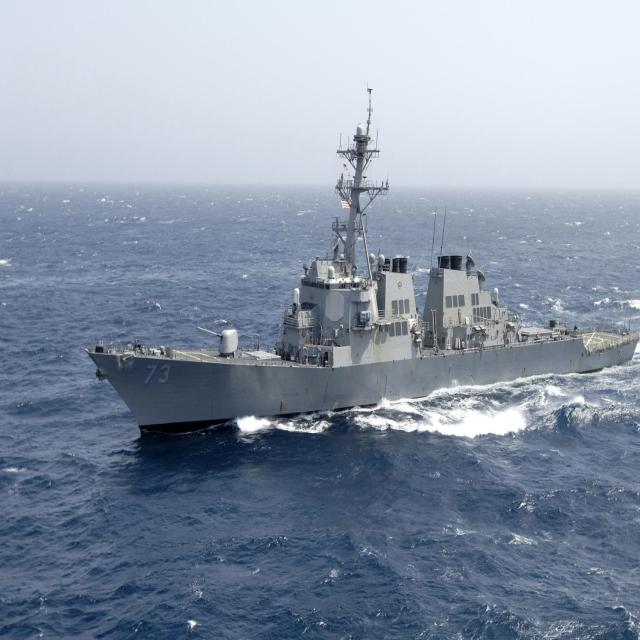navalvessels: (88, 76, 640, 425)
